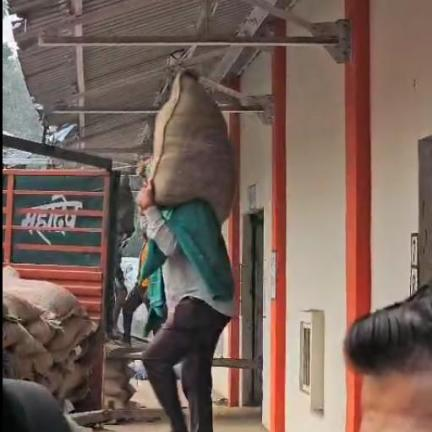Zone-Counting: (137, 70, 234, 431)
